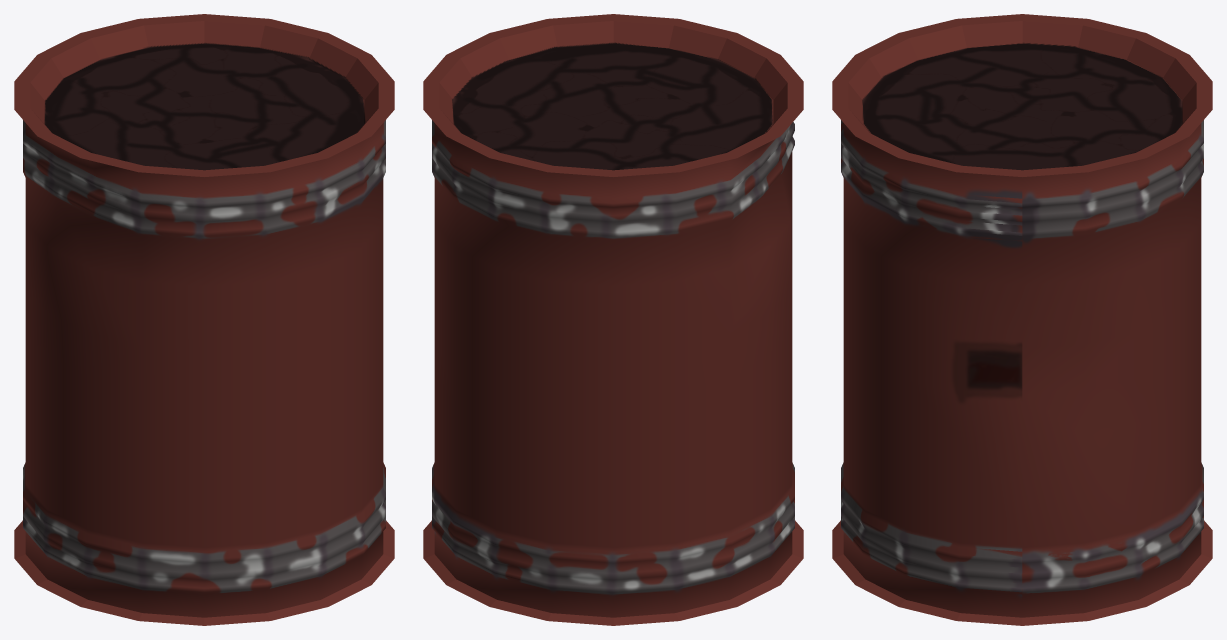
The model's file is drum_mou.FBX.
The picture shows the model from 3 angles, left to right: view 1: azimuth 30°, elevation 25°; view 2: azimuth 150°, elevation 25°; view 3: azimuth 270°, elevation 25°; orthographic projection.
Parts seen in each view (by area): view 1: Cylinder001; view 2: Cylinder001; view 3: Cylinder001.
Boxes of the visible parts, x1,y1,x2,y2 form: Cylinder001: (14,14,394,625); Cylinder001: (423,14,803,625); Cylinder001: (832,14,1212,625).
Size of the model in its own units: 25.53 by 32.75 by 25.14.
